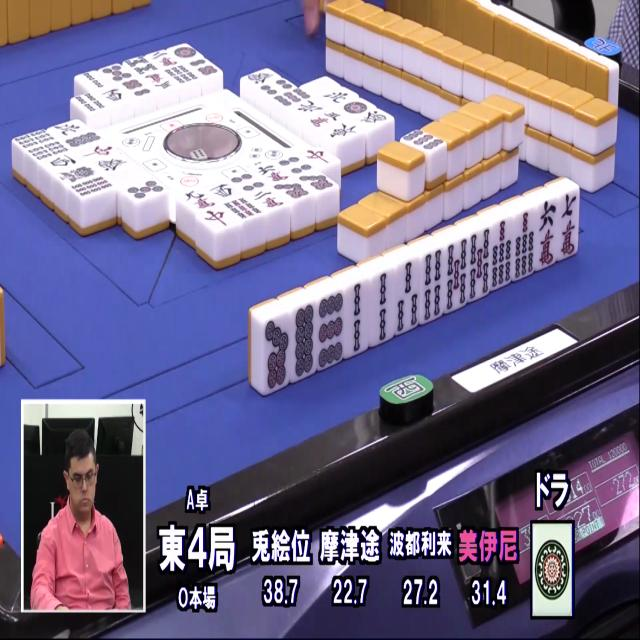m6: (535, 200, 559, 270)
m7: (558, 188, 580, 259)
s2: (343, 281, 372, 358), (369, 271, 396, 348)
s3: (396, 259, 424, 337)
s4: (419, 248, 446, 324)
s5: (444, 240, 471, 315), (468, 227, 494, 302)
s7: (490, 220, 515, 292), (513, 211, 538, 282)
t1: (534, 527, 570, 611)
t7: (260, 314, 293, 394)
t8: (292, 304, 318, 382)
t9: (315, 290, 348, 370)
